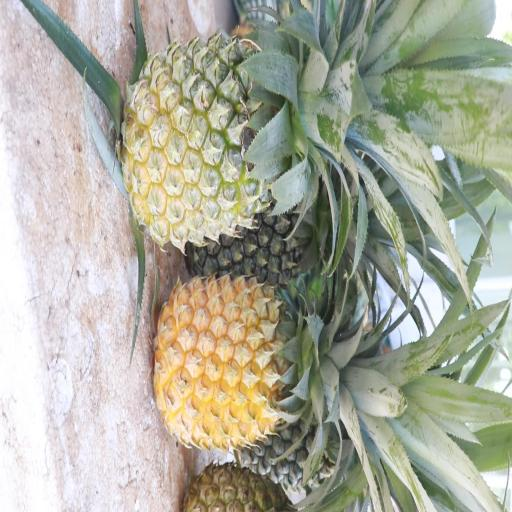------------------------------: (124, 44, 328, 242)
Pineapple - v8 v1: (154, 269, 348, 445)
